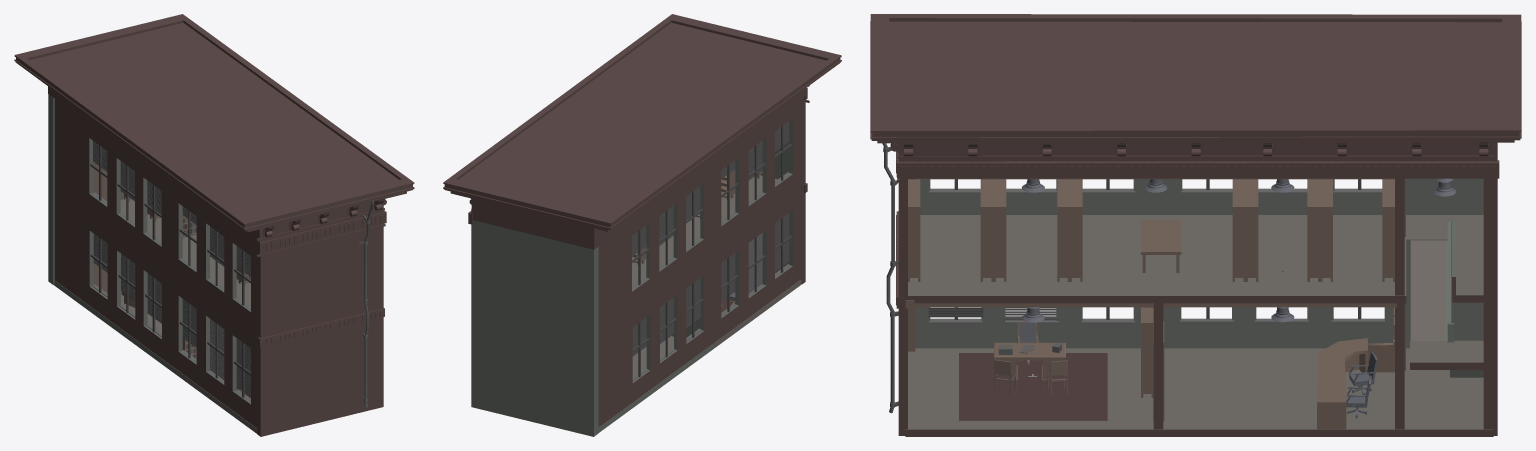
File: House1.fbx
3 renders of one model, left to right at view 1: azimuth 30°, elevation 25°; view 2: azimuth 150°, elevation 25°; view 3: azimuth 270°, elevation 25°, orthographic. The views are drawn at different scales.
Parts seen in each view (by area): view 1: pCube411, pCube721, pCube148, pCube202, pCube200, pCube187, pCube10, pCube405, pCube146, pCube220, pCube404, pCube198 (+8 smaller); view 2: pCube411, pCube220, pCube202, pCube200, pCube187, pCube10, pCube146, pCube198, pCube148, pCube985, pCube109, pCube145 (+4 smaller); view 3: pCube411, pCube146, pCube198, pCube145, pCube200, pCube129, pCube202, pCube10, pCube227, pCube187, pCube224, pCube220 (+29 smaller).
Part boxes in pixels (<box>): pCube411: <box>14,14,414,247</box>; pCube721: <box>257,317,383,436</box>; pCube148: <box>257,224,383,341</box>; pCube202: <box>54,99,169,276</box>; pCube200: <box>54,189,169,364</box>; pCube187: <box>169,183,257,340</box>; pCube10: <box>169,274,257,427</box>; pCube405: <box>257,212,384,253</box>; pCube146: <box>120,199,250,306</box>; pCube220: <box>48,94,54,284</box>; pCube404: <box>257,308,384,346</box>; pCube198: <box>54,280,168,368</box>; pCube411: <box>443,14,841,249</box>; pCube220: <box>471,220,598,436</box>; pCube202: <box>598,164,712,339</box>; pCube200: <box>598,257,712,426</box>; pCube187: <box>712,99,800,256</box>; pCube10: <box>712,188,800,343</box>; pCube146: <box>632,175,777,285</box>; pCube198: <box>598,336,713,432</box>; pCube148: <box>760,97,805,191</box>; pCube985: <box>748,232,762,293</box>; pCube109: <box>775,213,789,271</box>; pCube145: <box>712,273,801,348</box>; pCube411: <box>870,14,1521,161</box>; pCube146: <box>898,215,1406,303</box>; pCube198: <box>1156,348,1493,436</box>; pCube145: <box>905,348,1161,436</box>; pCube200: <box>1163,247,1483,348</box>; pCube129: <box>959,353,1107,420</box>; pCube202: <box>1159,178,1483,214</box>; pCube10: <box>915,307,1140,348</box>; pCube227: <box>1410,220,1455,342</box>; pCube187: <box>920,179,1159,214</box>; pCube224: <box>1317,338,1394,429</box>; pCube220: <box>1483,178,1497,435</box>.
Size of the model in its own units: 9.48 by 12.09 by 22.29.
